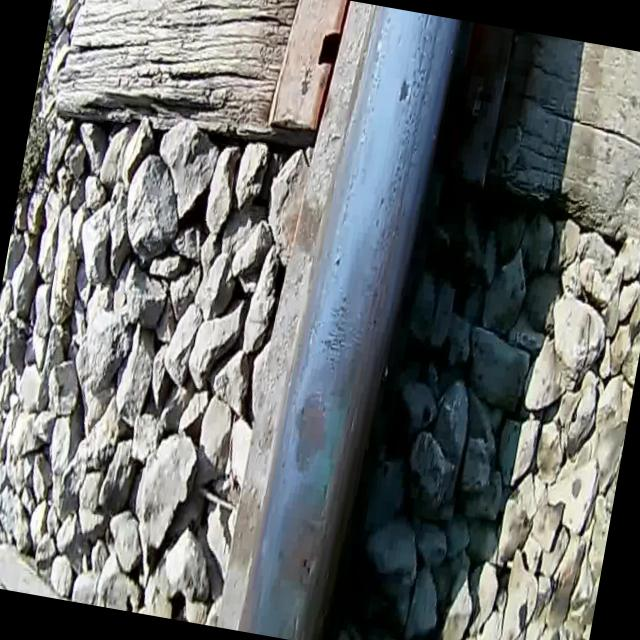Squats: (261, 473, 338, 622), (282, 382, 339, 480)
